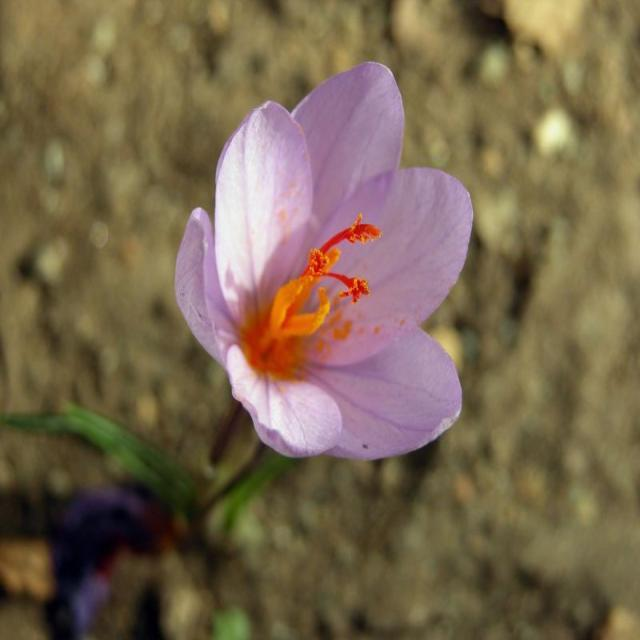Flower: (198, 84, 465, 436)
stigma: (254, 215, 386, 361)
